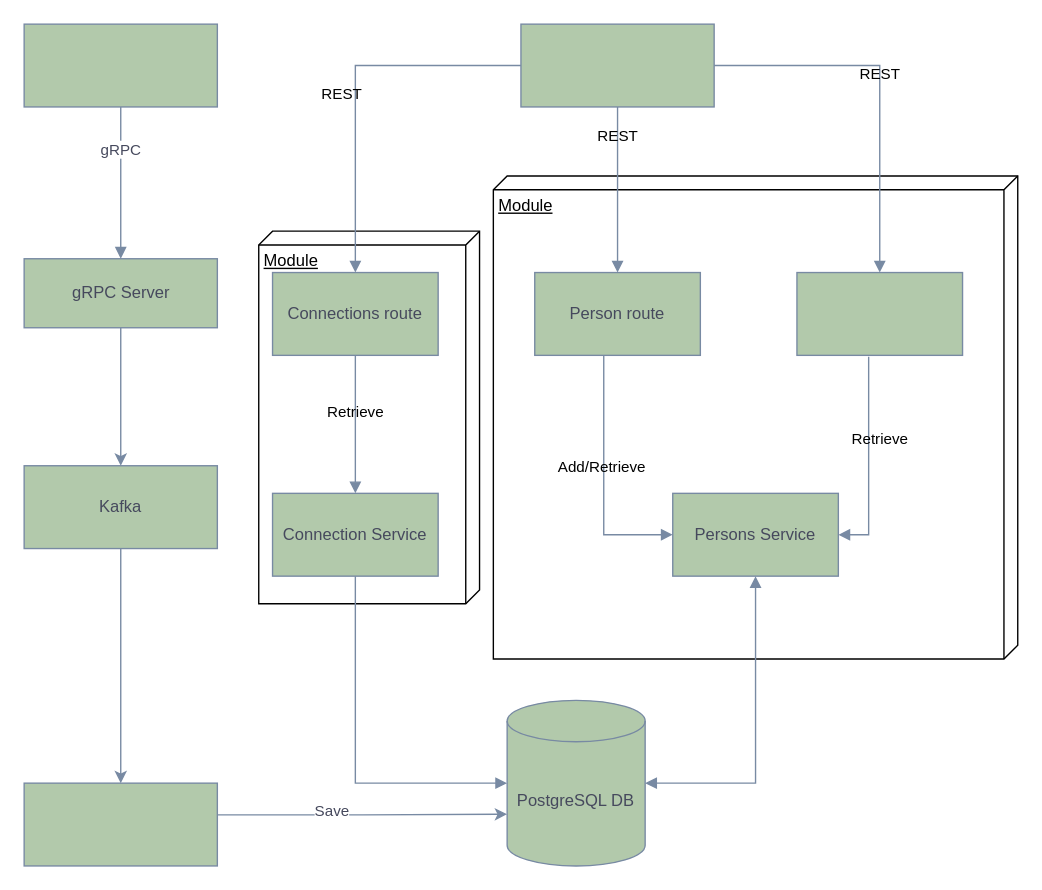
The diagram is 1042 pixels wide and 890 high, and some of its shapes have lost their labels. Here are the shapes that lost their labels. From the top down, the centre of each, then its label:
point 120,65: Mobile Device
point 617,65: Frontend Client
point 879,313: Persons route
point 120,824: Locations services
